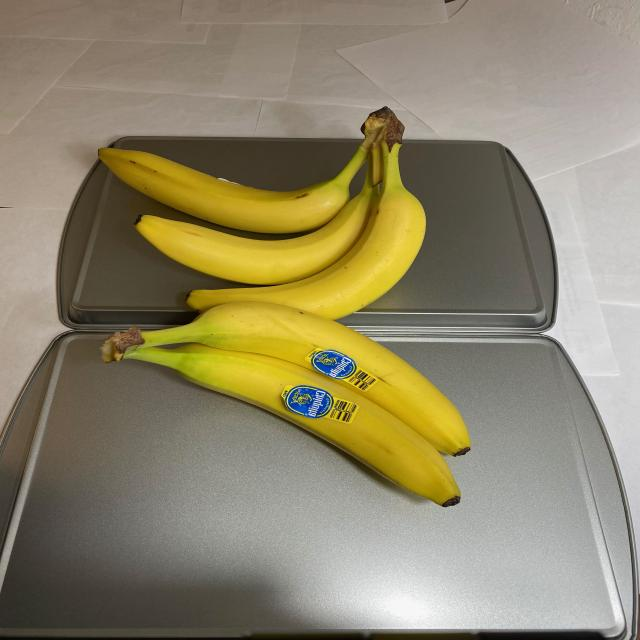banana: (89, 302, 478, 512), (91, 105, 426, 315)
